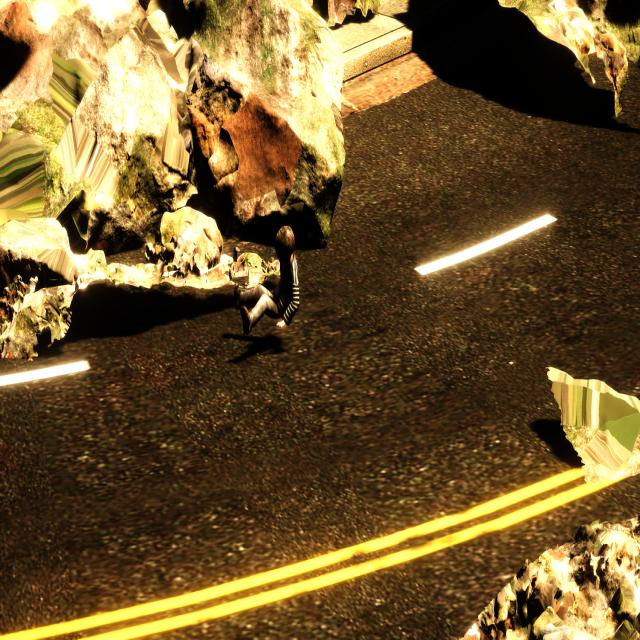Human: (232, 225, 303, 338)
